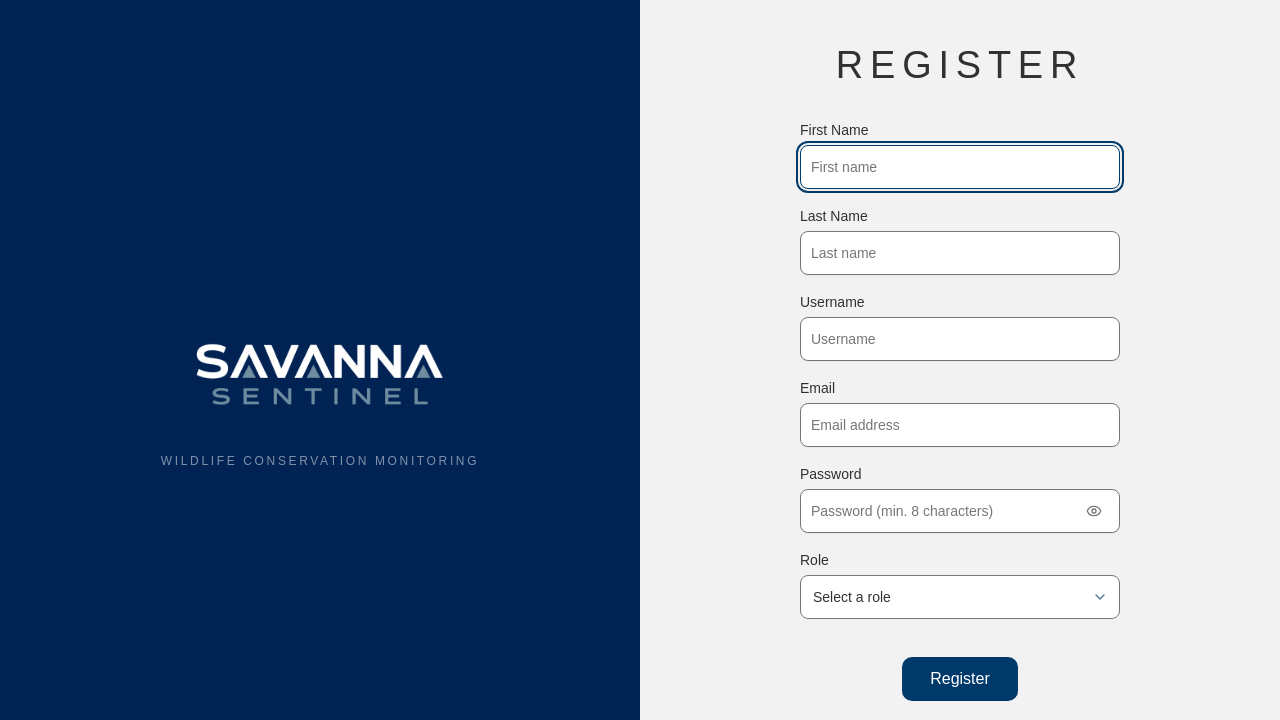
it: RegisterPage › shows a spinner and disables the button while submitting
Step 1. Type "Jane" into the field labelled "First Name" → (960, 166), box top-left (800, 144), bottom-right (1120, 188)
Step 2. Type "Ranger" into the field labelled "Last Name" → (960, 252), box top-left (800, 230), bottom-right (1120, 274)
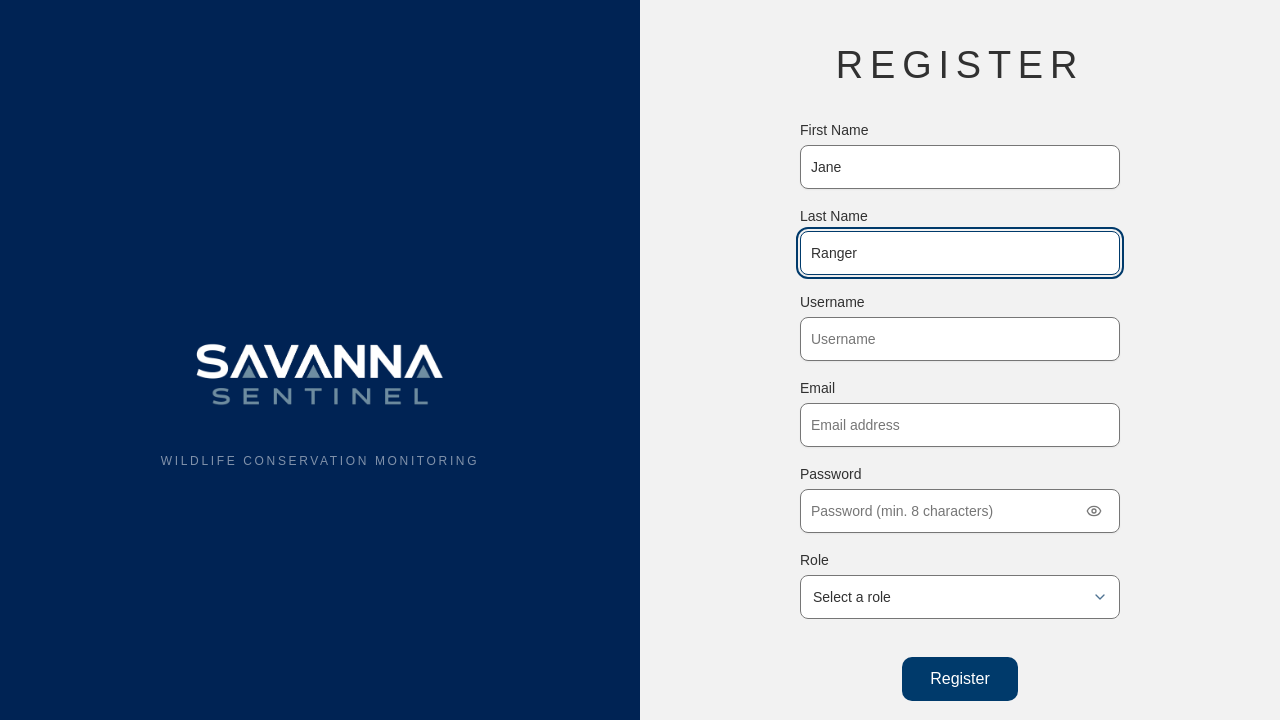
Step 3. Type "jranger" into the field labelled "Username" → (960, 338), box top-left (800, 316), bottom-right (1120, 360)
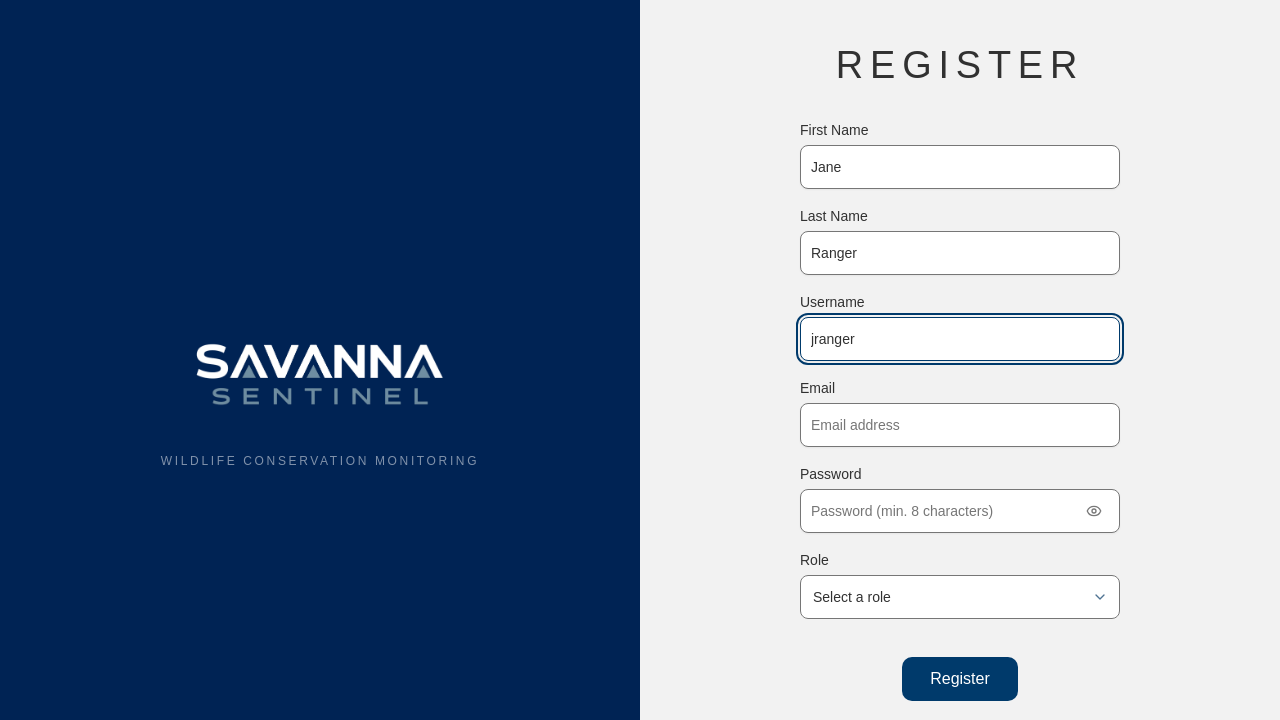
Step 4. Type "jane@example.com" into the field labelled "Email" → (960, 424), box top-left (800, 402), bottom-right (1120, 446)
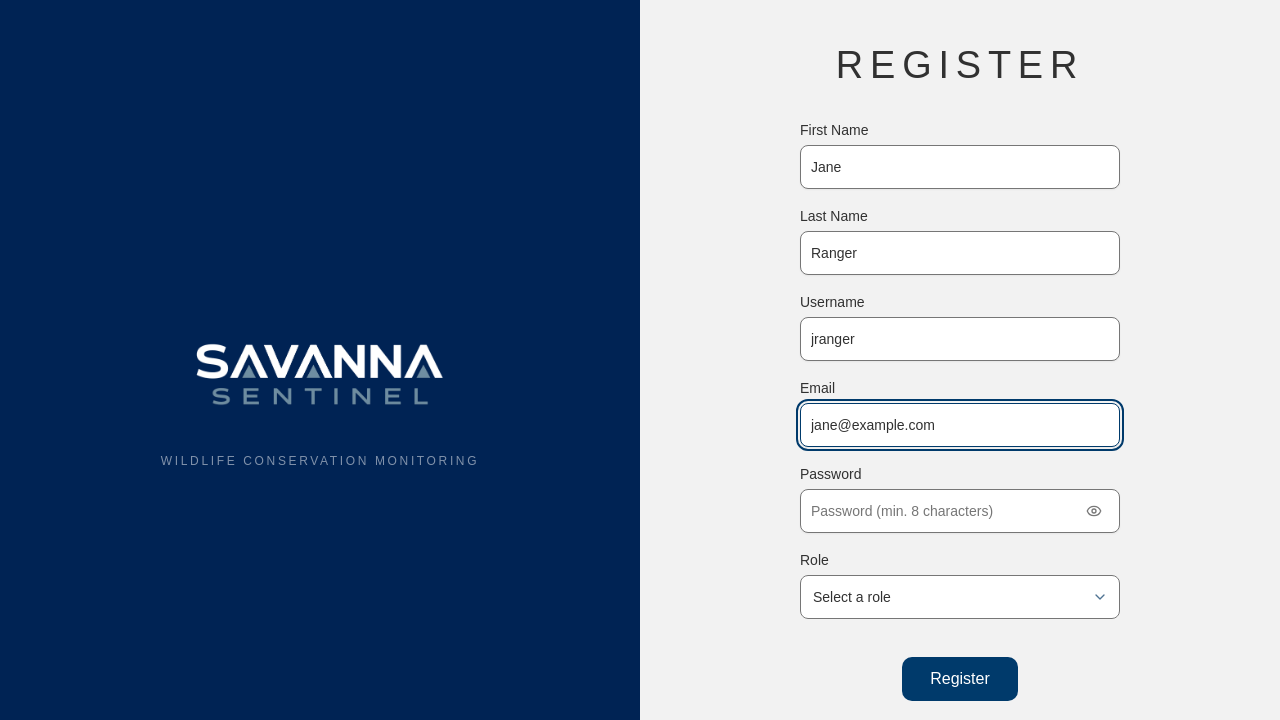
Step 5. Type "SecurePass1!" into the password field labelled "Password" → (960, 510), box top-left (800, 488), bottom-right (1120, 532)
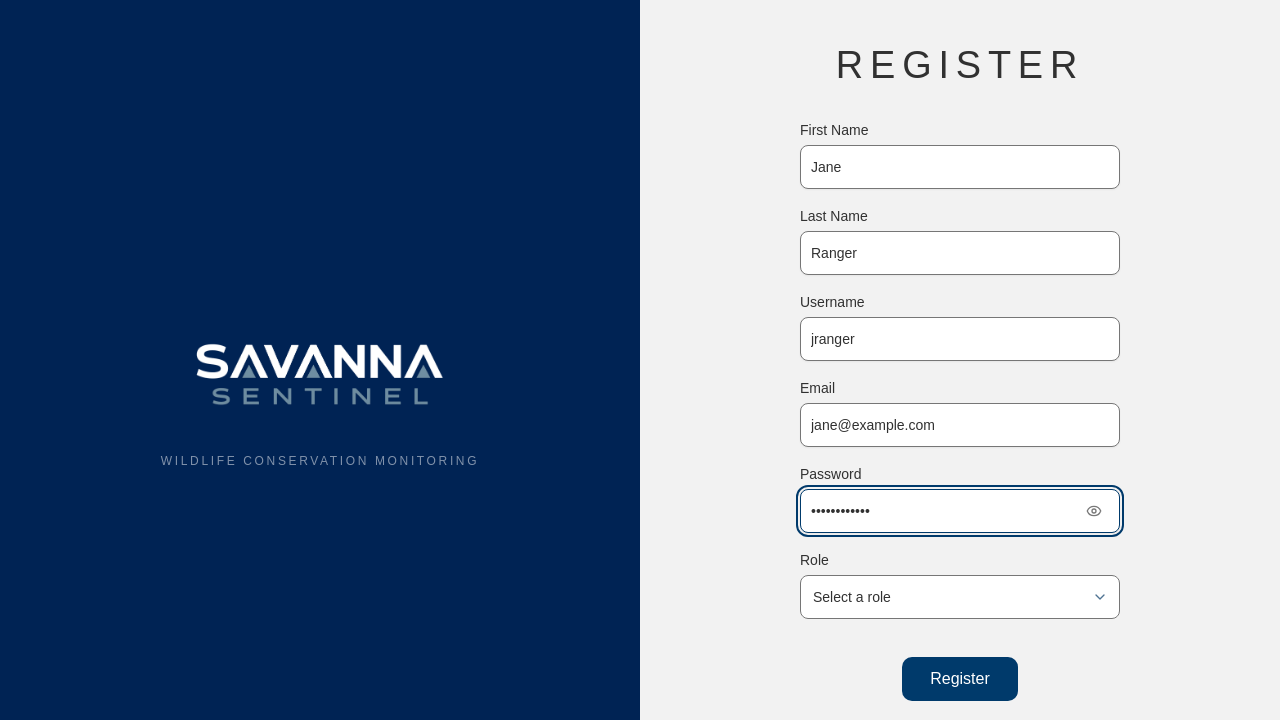
Step 6. Select "Ranger" in the dropdown → (960, 596), box top-left (800, 574), bottom-right (1120, 618)
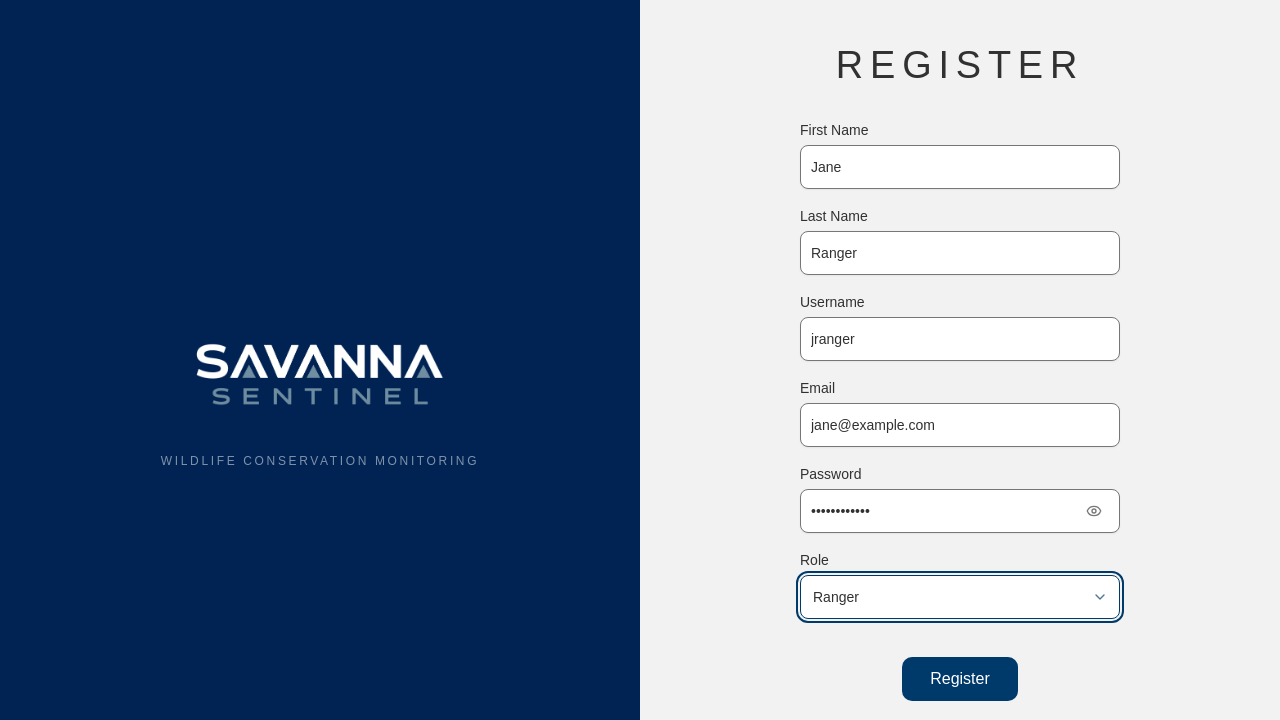
Step 7. Click the button "Register" → (960, 678), box top-left (900, 654), bottom-right (1020, 702)
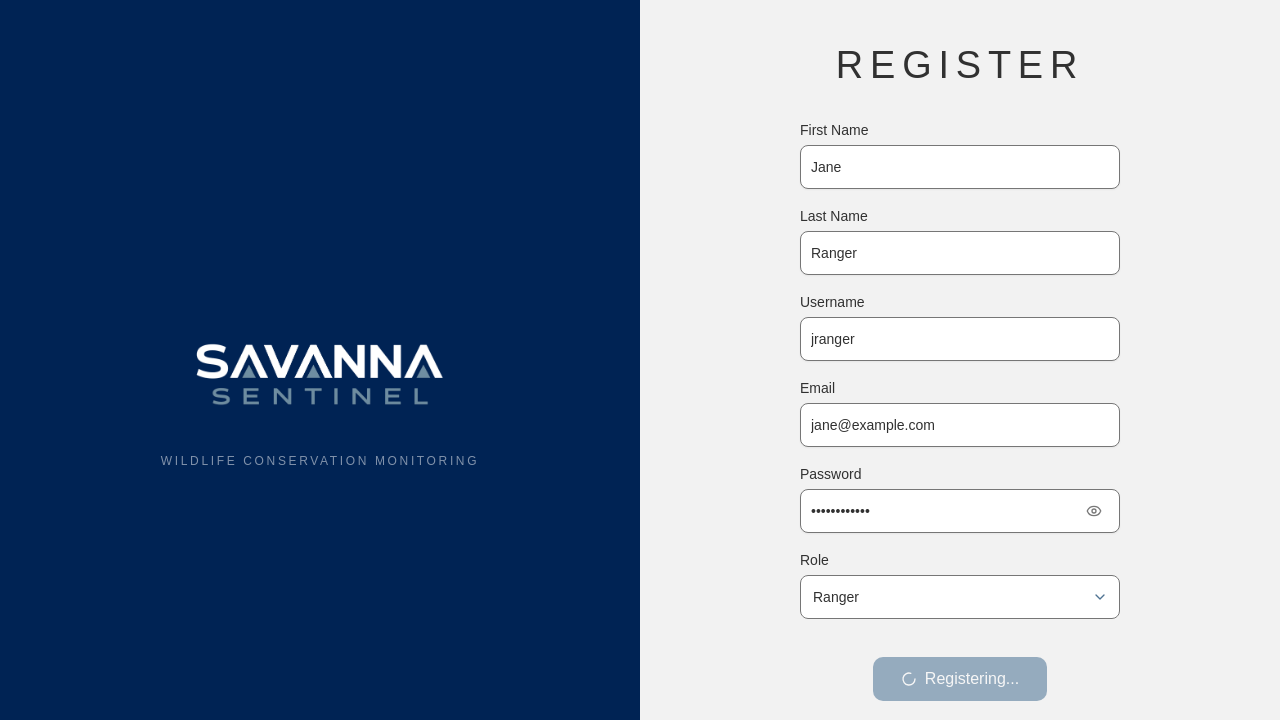
Check: the button "Registering..." is disabled, box top-left (871, 654), bottom-right (1049, 702)
